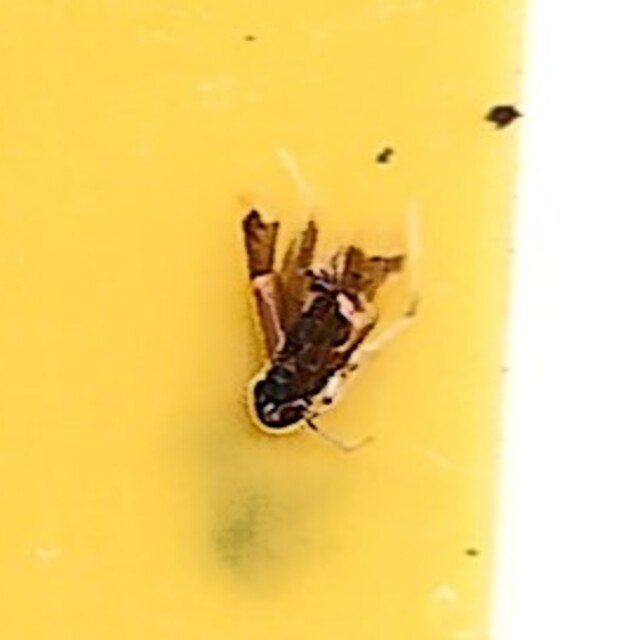Hemiptera: (235, 204, 405, 436)
